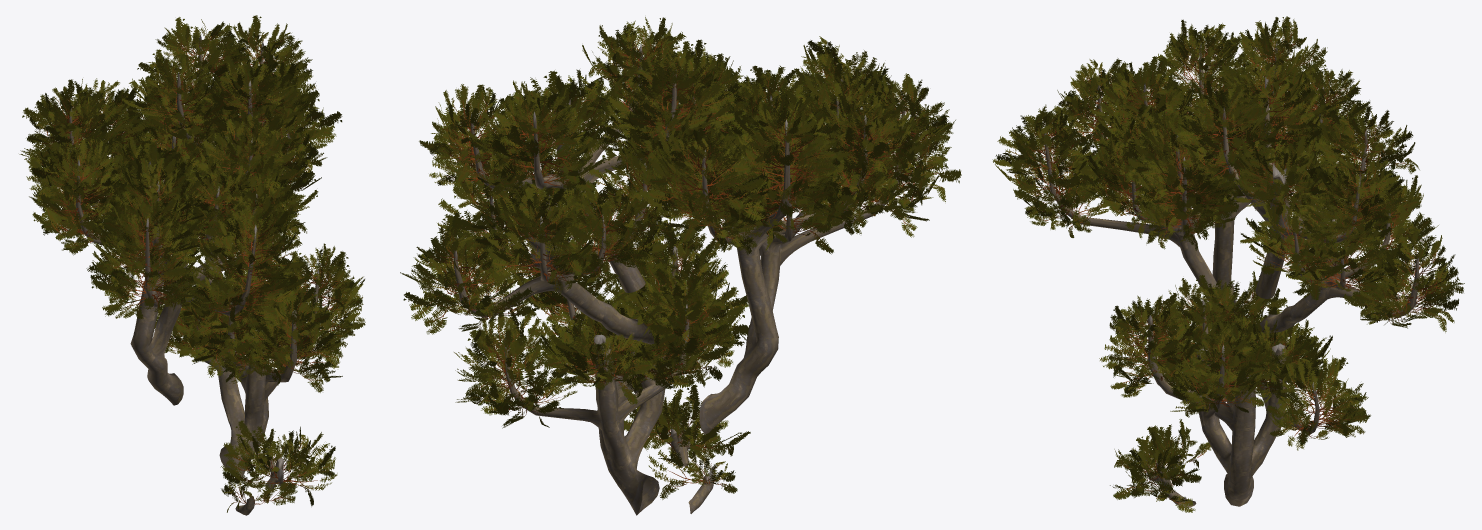
3 views of the same model, side by side, from view 1: azimuth 30°, elevation 25°; view 2: azimuth 150°, elevation 25°; view 3: azimuth 270°, elevation 25° (orthographic). The views are drawn at different scales.
Visible parts, largest first — view 1: SM_Yew_01_canopy_LOD0; view 2: SM_Yew_01_canopy_LOD0; view 3: SM_Yew_01_canopy_LOD0.
Boxes of the visible parts, x1,y1,x2,y2 form: SM_Yew_01_canopy_LOD0: (19,15,365,515); SM_Yew_01_canopy_LOD0: (400,17,961,515); SM_Yew_01_canopy_LOD0: (992,16,1464,512).
Bounding box in the file's own units: 9.1 × 10.61 × 10.54.
Materials: 2 (2 with a texture image).
